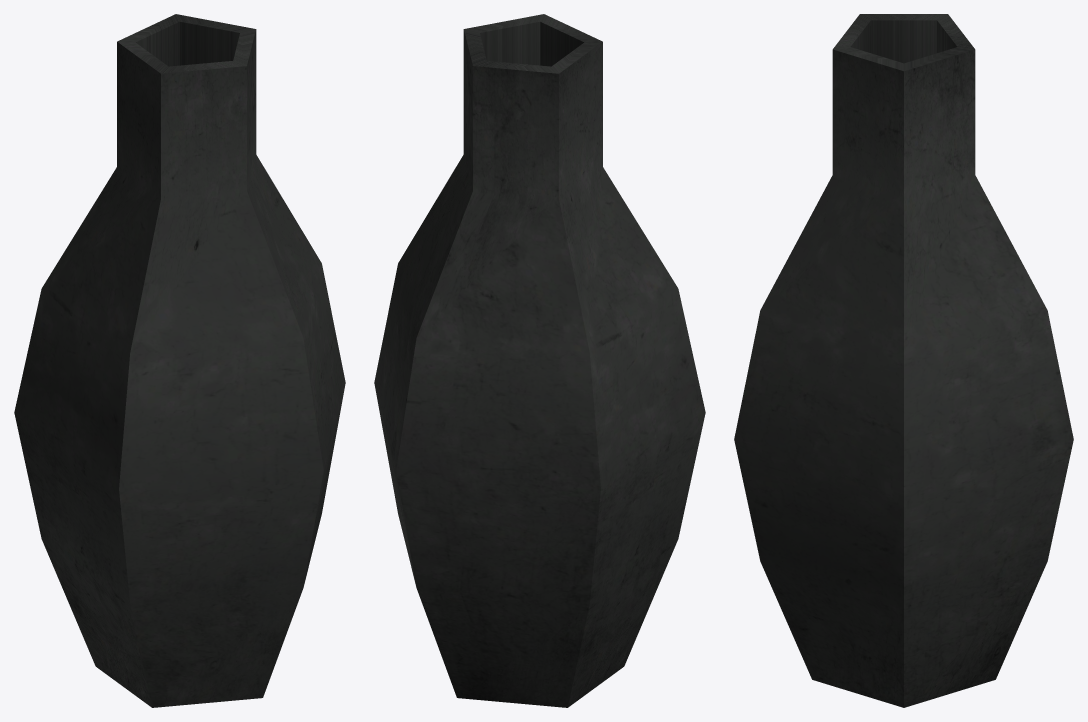
The model's file is big_base.fbx.
The picture shows the model from 3 angles, left to right: view 1: azimuth 30°, elevation 25°; view 2: azimuth 150°, elevation 25°; view 3: azimuth 270°, elevation 25°; orthographic projection.
Visible parts, largest first — view 1: big_base.001; view 2: big_base.001; view 3: big_base.001.
Boxes of the visible parts, box(x1,y1,x2,y2) form: big_base.001: box(14, 14, 345, 707); big_base.001: box(374, 14, 705, 707); big_base.001: box(734, 14, 1073, 707).
Bounding box in the file's own units: 0.7111 × 1.52 × 0.7477.
1 material, 1 textured.
